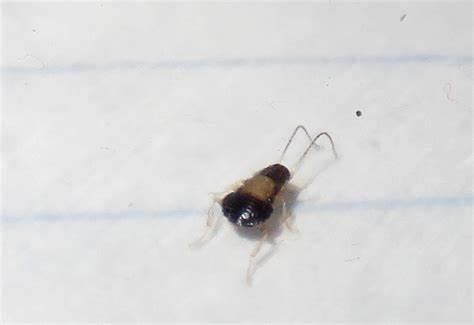cockroach: (219, 162, 292, 231)
